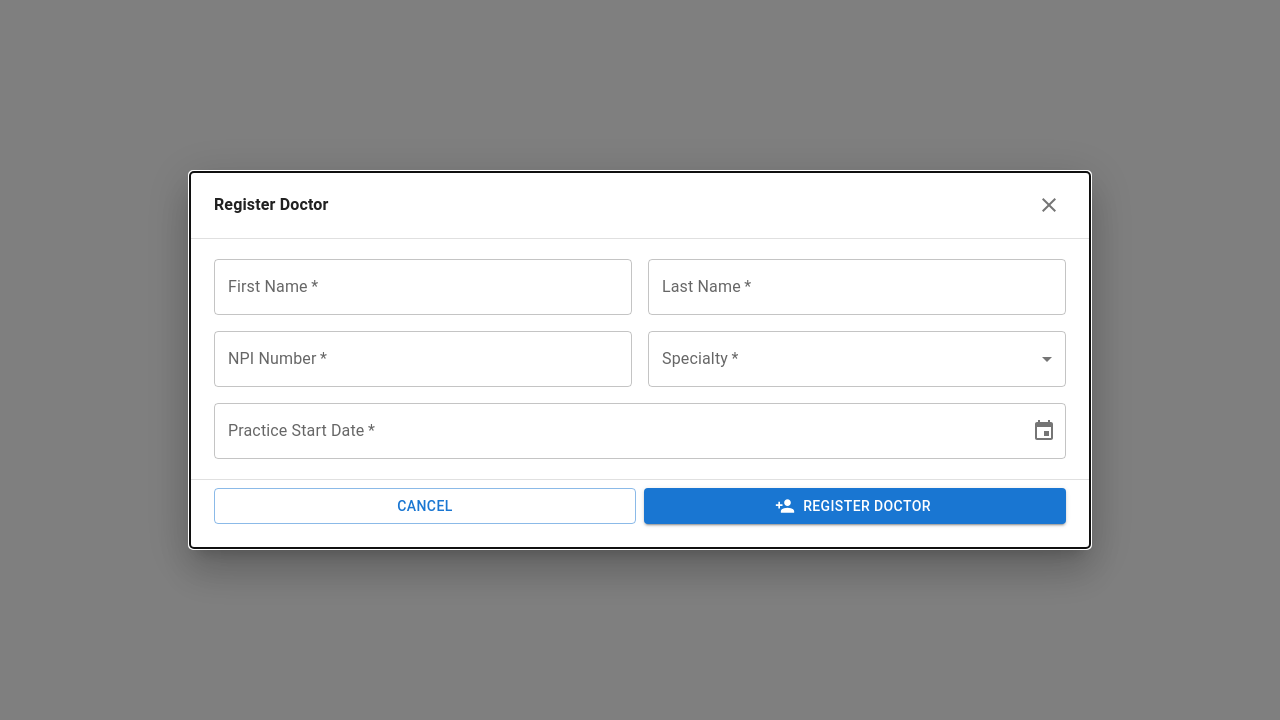
Test: DoctorModal › show validation errors when submitting empty form
The width and height of the screenshot is (1280, 720).
Click the button "Register Doctor": coordinates (855, 506) [644,488,1066,524]
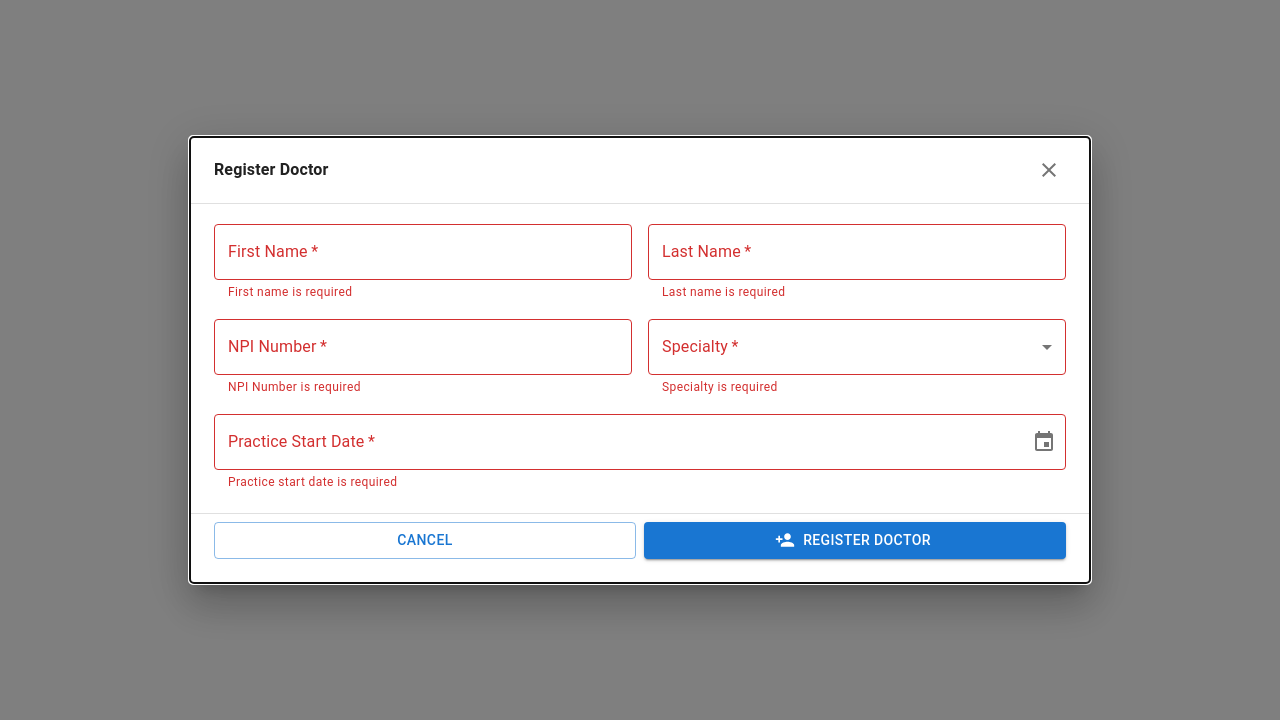
expect the text "First name is required" is shown: met, box [228,285,352,299]
expect the text "Last name is required" is shown: met, box [662,285,785,299]
expect the text "Practice start date is required" is shown: met, box [228,475,397,489]
